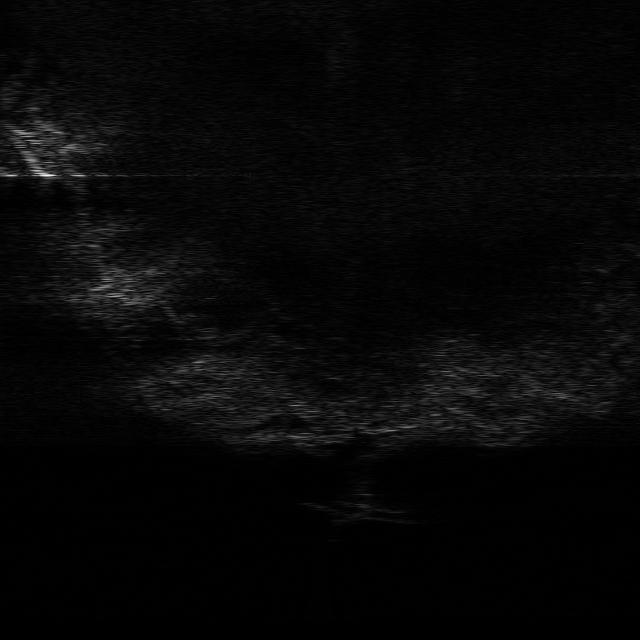plane: (299, 496, 419, 525)
